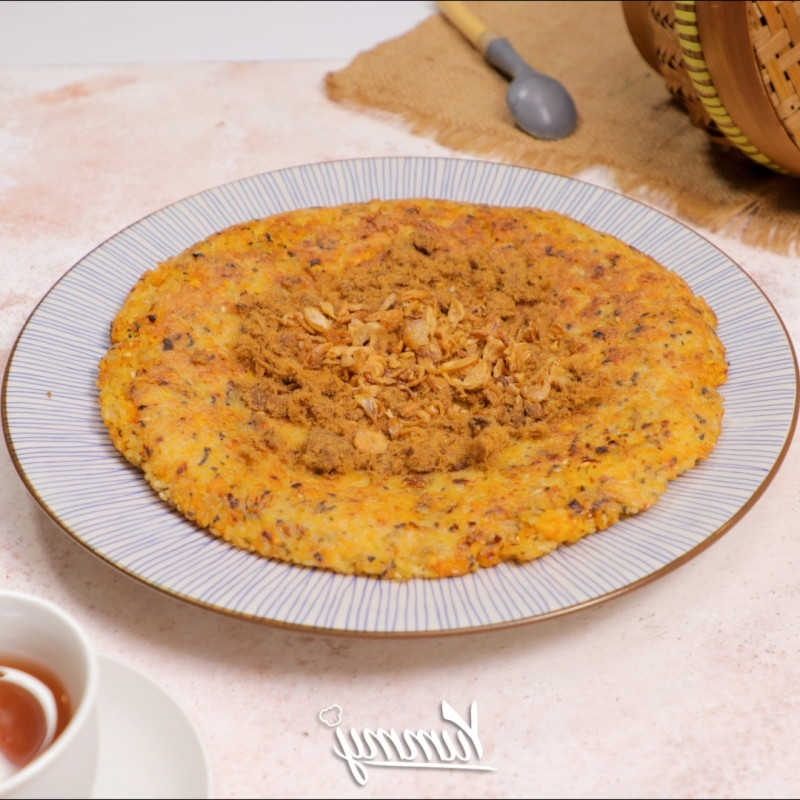kerak_telor: (102, 196, 729, 585)
